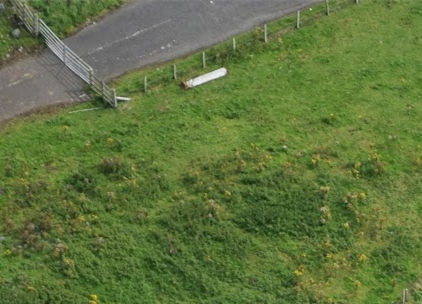straight_bar: (176, 63, 235, 95)
